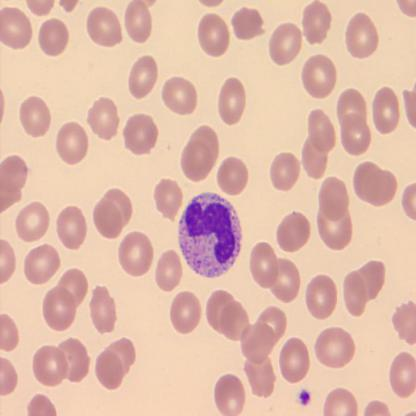Band Neutrophil: (176, 188, 244, 281)
